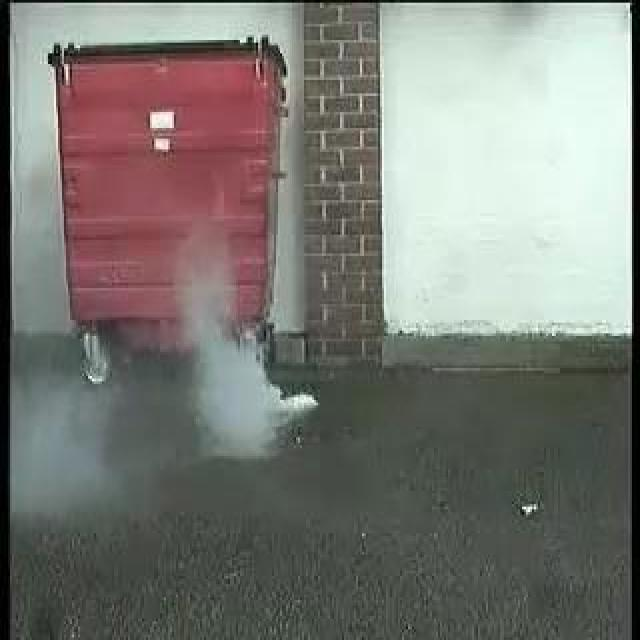Smoke: (175, 253, 317, 456)
